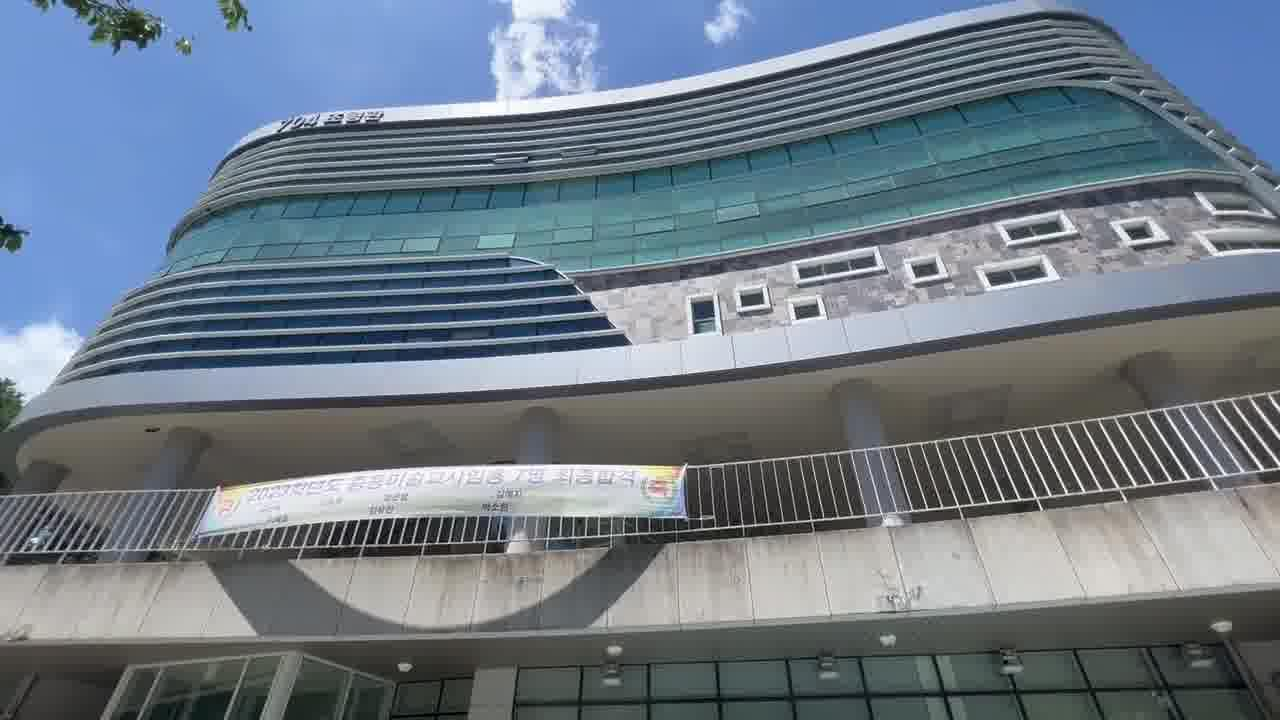building: (93, 40, 1280, 720)
